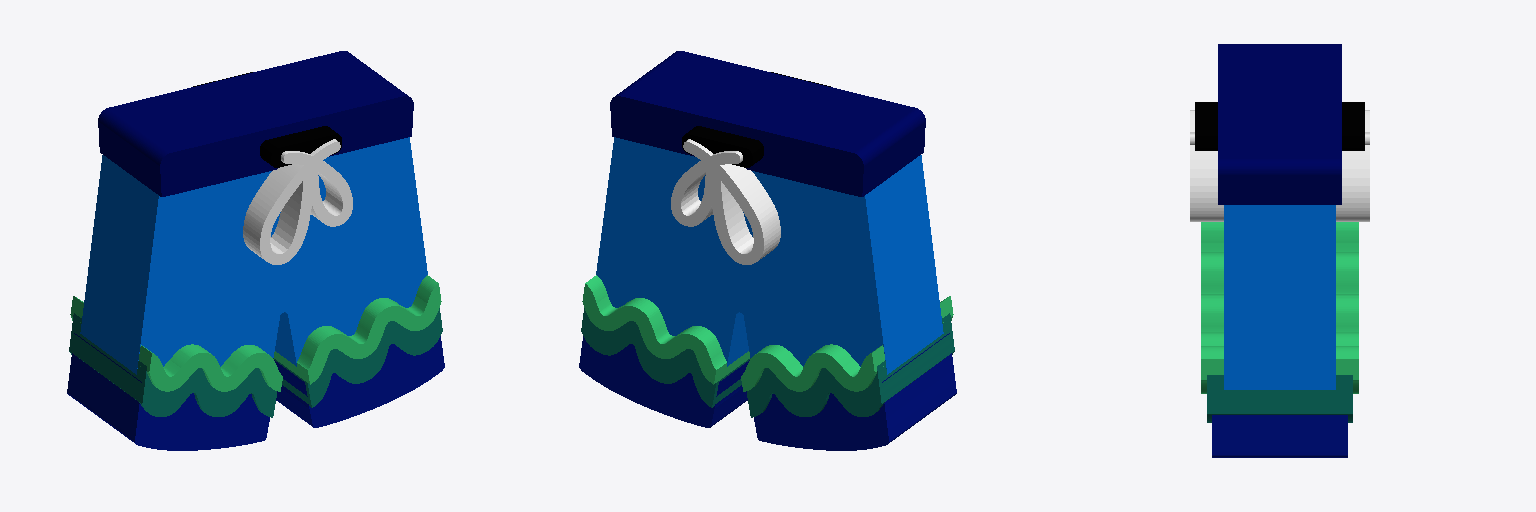
3 views of the same model, side by side, from view 1: azimuth 30°, elevation 25°; view 2: azimuth 150°, elevation 25°; view 3: azimuth 270°, elevation 25° (orthographic).
Visible parts, largest first — view 1: U+1FA73_layer00_obj00, U+1FA73_layer01_obj00, U+1FA73_layer02_obj00, U+1FA73_layer06_obj00, U+1FA73_layer02_obj01, U+1FA73_layer03_obj00, U+1FA73_layer04_obj00, U+1FA73_layer04_obj01, U+1FA73_layer03_obj01, U+1FA73_layer05_obj00; view 2: U+1FA73_layer00_obj00, U+1FA73_layer01_obj00, U+1FA73_layer02_obj00, U+1FA73_layer06_obj00, U+1FA73_layer02_obj01, U+1FA73_layer03_obj00, U+1FA73_layer04_obj00, U+1FA73_layer04_obj01, U+1FA73_layer03_obj01, U+1FA73_layer05_obj00; view 3: U+1FA73_layer00_obj00, U+1FA73_layer01_obj00, U+1FA73_layer02_obj01, U+1FA73_layer04_obj01, U+1FA73_layer06_obj00, U+1FA73_layer03_obj01, U+1FA73_layer05_obj00, U+1FA73_layer04_obj00.
Part boxes in pixels (bbox=[...]): U+1FA73_layer00_obj00: bbox=[80, 137, 427, 374]; U+1FA73_layer01_obj00: bbox=[98, 51, 413, 196]; U+1FA73_layer02_obj00: bbox=[67, 333, 269, 450]; U+1FA73_layer06_obj00: bbox=[243, 139, 352, 264]; U+1FA73_layer02_obj01: bbox=[274, 336, 444, 427]; U+1FA73_layer03_obj00: bbox=[69, 313, 276, 417]; U+1FA73_layer04_obj00: bbox=[274, 275, 441, 384]; U+1FA73_layer04_obj01: bbox=[70, 296, 282, 391]; U+1FA73_layer03_obj01: bbox=[273, 308, 442, 407]; U+1FA73_layer05_obj00: bbox=[193, 72, 341, 167]; U+1FA73_layer00_obj00: bbox=[596, 137, 943, 374]; U+1FA73_layer01_obj00: bbox=[610, 51, 925, 196]; U+1FA73_layer02_obj00: bbox=[754, 333, 956, 450]; U+1FA73_layer06_obj00: bbox=[671, 139, 780, 264]; U+1FA73_layer02_obj01: bbox=[579, 336, 749, 427]; U+1FA73_layer03_obj00: bbox=[747, 313, 954, 417]; U+1FA73_layer04_obj00: bbox=[582, 275, 749, 384]; U+1FA73_layer04_obj01: bbox=[741, 296, 953, 391]; U+1FA73_layer03_obj01: bbox=[581, 308, 750, 407]; U+1FA73_layer05_obj00: bbox=[682, 72, 830, 167]; U+1FA73_layer00_obj00: bbox=[1224, 205, 1335, 389]; U+1FA73_layer01_obj00: bbox=[1218, 44, 1341, 204]; U+1FA73_layer02_obj01: bbox=[1212, 415, 1347, 457]; U+1FA73_layer04_obj01: bbox=[1201, 222, 1358, 331]; U+1FA73_layer06_obj00: bbox=[1190, 110, 1369, 221]; U+1FA73_layer03_obj01: bbox=[1207, 375, 1352, 422]; U+1FA73_layer05_obj00: bbox=[1195, 102, 1364, 150]; U+1FA73_layer04_obj00: bbox=[1201, 332, 1358, 393].
Bounding box in the file's own units: 0.3176 × 0.3015 × 0.16.